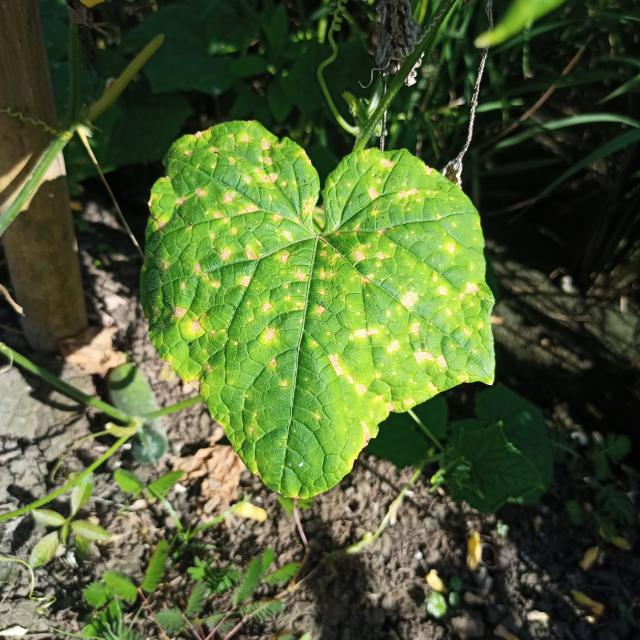disease_cucumber: (147, 123, 487, 452)
